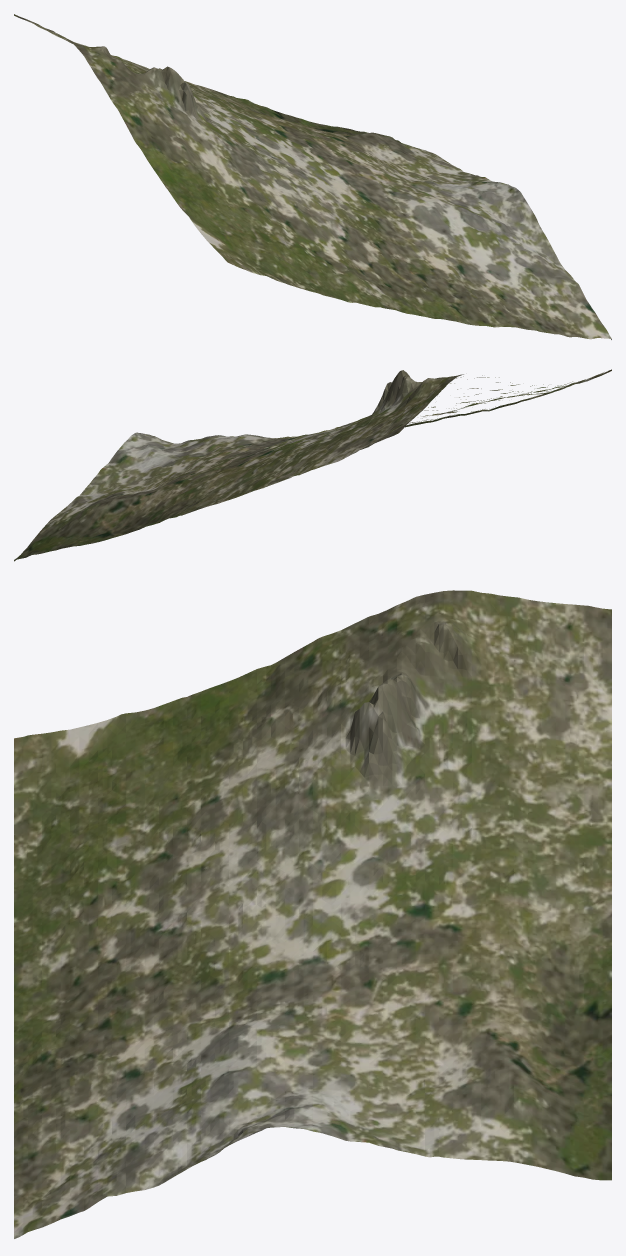
3 views of the same model, one above another, from view 1: azimuth 30°, elevation 25°; view 2: azimuth 150°, elevation 25°; view 3: azimuth 270°, elevation 25° (orthographic). The views are drawn at different scales.
Size of the model in its own units: 250 by 173 by 241.
Materials: 1 (1 with a texture image).
